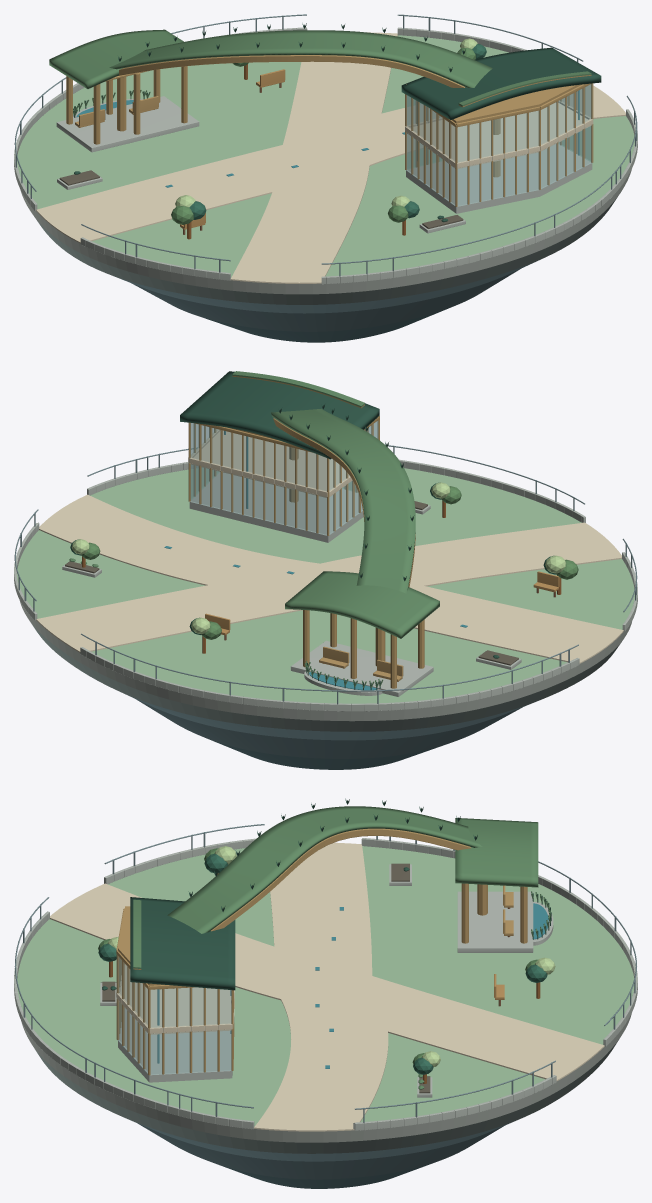
The picture shows the model from 3 angles, top to bottom: view 1: azimuth 30°, elevation 25°; view 2: azimuth 150°, elevation 25°; view 3: azimuth 270°, elevation 25°; orthographic projection. The views are drawn at different scales.
Parts seen in each view (by area): view 1: ROLE_terrain_Components__grass, ROLE_paving_Components__paveLight, ROLE_building_Components__mistglass, ROLE_roof_Components__ecoLeaf, ROLE_building_Components__ecoWood, ROLE_building_Components__stone2, ROLE_rails_Components__stone2, ROLE_terrain_Components__stone2, ROLE_roof_Components__ecoDeep, ROLE_terrain_Components__cliff3, ROLE_building_Components__paveLight, ROLE_terrain_Components__cliff2 (+13 smaller); view 2: ROLE_terrain_Components__grass, ROLE_paving_Components__paveLight, ROLE_roof_Components__ecoLeaf, ROLE_building_Components__mistglass, ROLE_building_Components__stone2, ROLE_rails_Components__stone2, ROLE_building_Components__ecoWood, ROLE_roof_Components__ecoDeep, ROLE_terrain_Components__stone2, ROLE_terrain_Components__cliff3, ROLE_terrain_Components__cliff2, ROLE_building_Components__paveLight (+11 smaller); view 3: ROLE_terrain_Components__grass, ROLE_paving_Components__paveLight, ROLE_roof_Components__ecoLeaf, ROLE_rails_Components__stone2, ROLE_building_Components__mistglass, ROLE_building_Components__stone2, ROLE_roof_Components__ecoDeep, ROLE_building_Components__ecoWood, ROLE_terrain_Components__stone2, ROLE_terrain_Components__cliff3, ROLE_terrain_Components__cliff2, ROLE_building_Components__paveLight (+10 smaller).
Boxes of the visible parts, left/top/right/bottom form: ROLE_terrain_Components__grass: left=17, top=35, right=634, bottom=277; ROLE_paving_Components__paveLight: left=36, top=32, right=625, bottom=283; ROLE_building_Components__mistglass: left=406, top=84, right=592, bottom=206; ROLE_roof_Components__ecoLeaf: left=49, top=29, right=492, bottom=88; ROLE_building_Components__ecoWood: left=66, top=55, right=593, bottom=206; ROLE_building_Components__stone2: left=56, top=96, right=592, bottom=213; ROLE_rails_Components__stone2: left=14, top=27, right=637, bottom=284; ROLE_terrain_Components__stone2: left=20, top=169, right=631, bottom=294; ROLE_roof_Components__ecoDeep: left=401, top=47, right=601, bottom=119; ROLE_terrain_Components__cliff3: left=35, top=197, right=617, bottom=304; ROLE_building_Components__paveLight: left=405, top=100, right=593, bottom=168; ROLE_terrain_Components__cliff2: left=131, top=269, right=519, bottom=331; ROLE_terrain_Components__grass: left=17, top=468, right=634, bottom=703; ROLE_paving_Components__paveLight: left=36, top=494, right=623, bottom=663; ROLE_roof_Components__ecoLeaf: left=271, top=408, right=439, bottom=638; ROLE_building_Components__mistglass: left=190, top=420, right=378, bottom=535; ROLE_building_Components__stone2: left=189, top=472, right=433, bottom=696; ROLE_rails_Components__stone2: left=14, top=459, right=637, bottom=711; ROLE_building_Components__ecoWood: left=188, top=416, right=424, bottom=688; ROLE_roof_Components__ecoDeep: left=180, top=371, right=379, bottom=459; ROLE_terrain_Components__stone2: left=19, top=600, right=631, bottom=721; ROLE_terrain_Components__cliff3: left=30, top=622, right=621, bottom=731; ROLE_terrain_Components__cliff2: left=136, top=699, right=522, bottom=758; ROLE_building_Components__paveLight: left=188, top=429, right=352, bottom=497; ROLE_terrain_Components__grass: left=17, top=846, right=634, bottom=1126; ROLE_paving_Components__paveLight: left=50, top=842, right=604, bottom=1131; ROLE_roof_Components__ecoLeaf: left=167, top=806, right=538, bottom=933; ROLE_rails_Components__stone2: left=14, top=838, right=637, bottom=1130; ROLE_building_Components__mistglass: left=117, top=956, right=231, bottom=1074; ROLE_building_Components__stone2: left=118, top=891, right=533, bottom=1082; ROLE_roof_Components__ecoDeep: left=130, top=897, right=235, bottom=990; ROLE_building_Components__ecoWood: left=116, top=828, right=527, bottom=1075; ROLE_terrain_Components__stone2: left=21, top=1013, right=631, bottom=1142; ROLE_terrain_Components__cliff3: left=34, top=1040, right=618, bottom=1153; ROLE_terrain_Components__cliff2: left=138, top=1123, right=503, bottom=1179; ROLE_building_Components__paveLight: left=116, top=964, right=234, bottom=1034.
Size of the model in its own units: 33.65 by 16.28 by 30.81.
